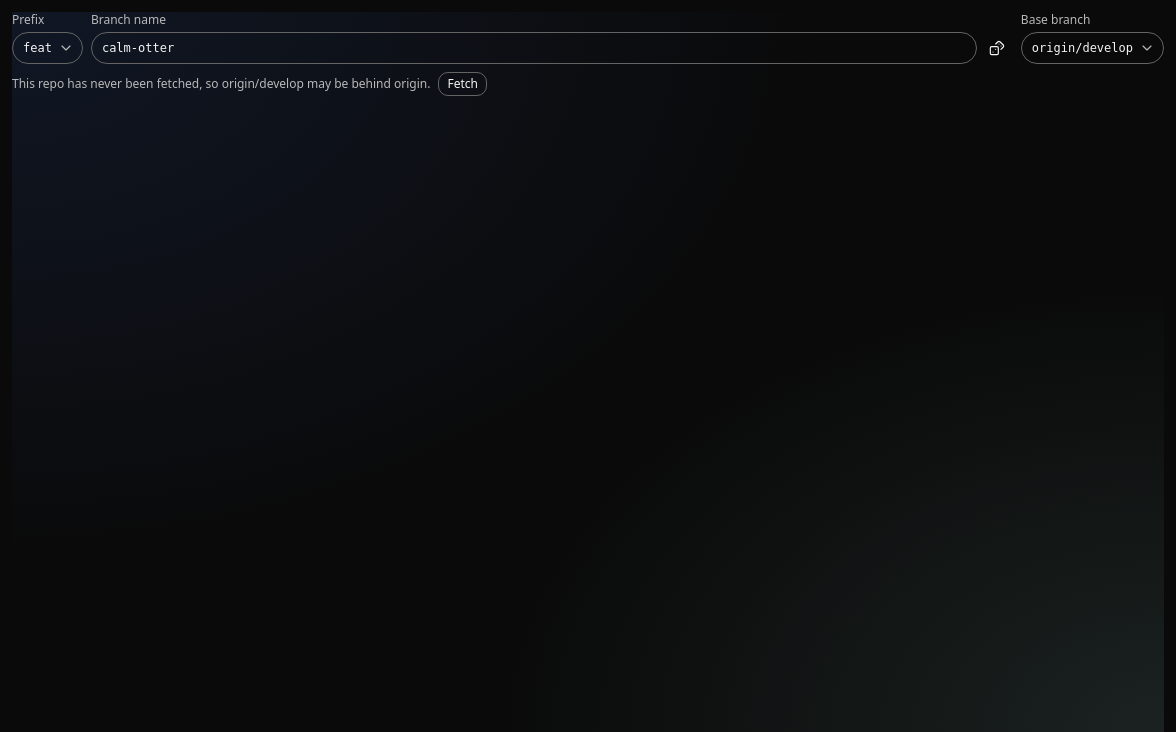
it: WorktreeFields base freshness › says when the repo has never been fetched, and shows a failed fetch
Expected: the element with test id "base-freshness" shows "This repo has never been fetched, so origin/develop may be behind origin.", [12,75,430,92]
Click the button "Fetch" at (463, 84), box [438,72,487,96]
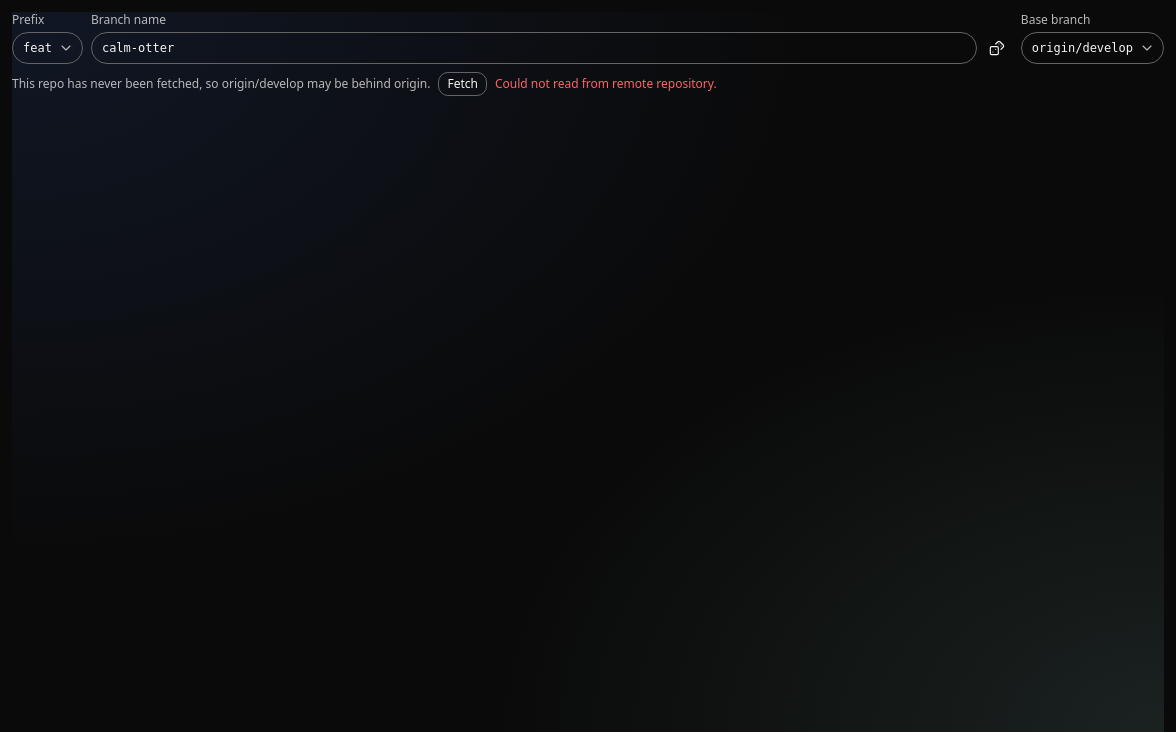
Result: the message reads "Could not read from remote repository." at [495,75,717,92]
